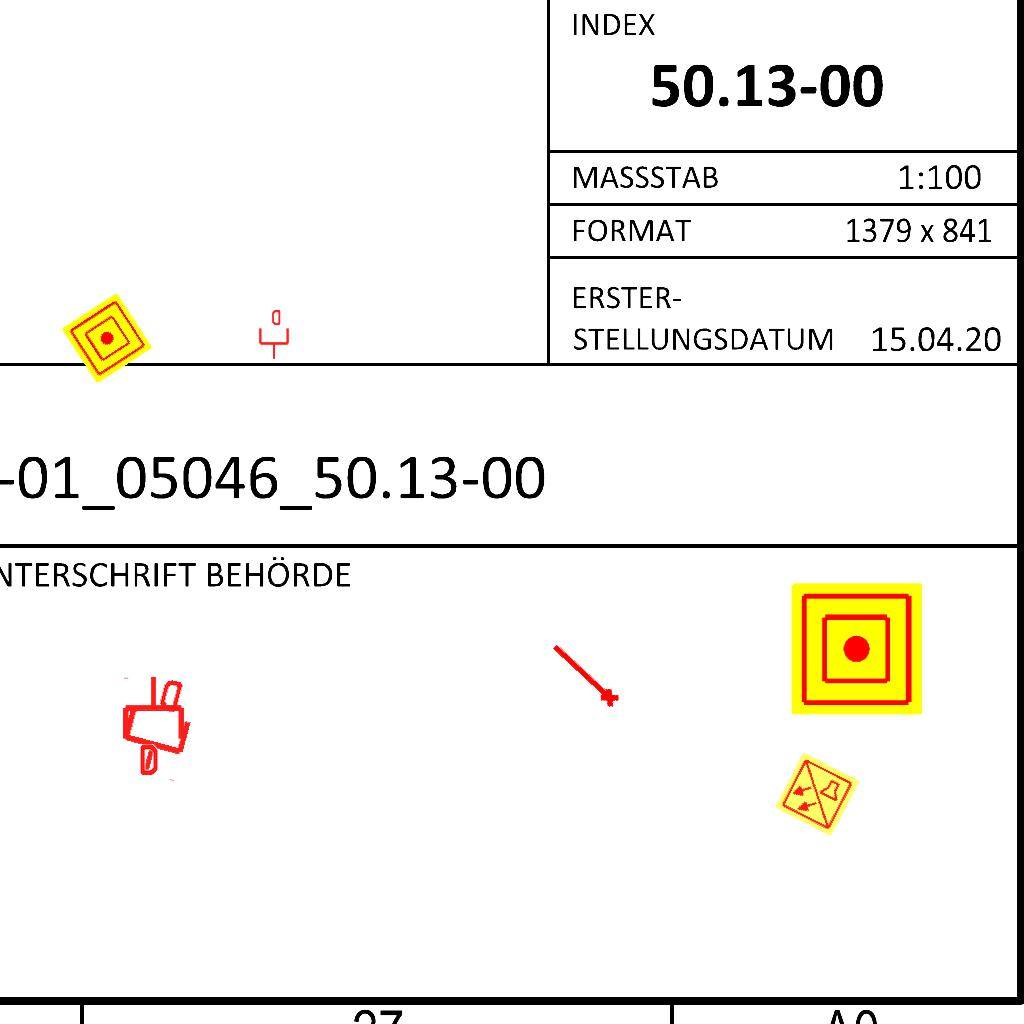ASR_Ansaugoeffnung: (543, 637, 625, 714)
Datenanschluss_einfach: (111, 670, 204, 786), (119, 675, 188, 775), (257, 310, 291, 360)
NAM-Nichtautomatischer_Melder: (791, 583, 923, 715), (61, 292, 153, 384)
OKW_Multisensormelder_(Kombination_optischer_Rauch-Kahlenmonoxid_Waerme-Melder): (772, 749, 862, 839)
